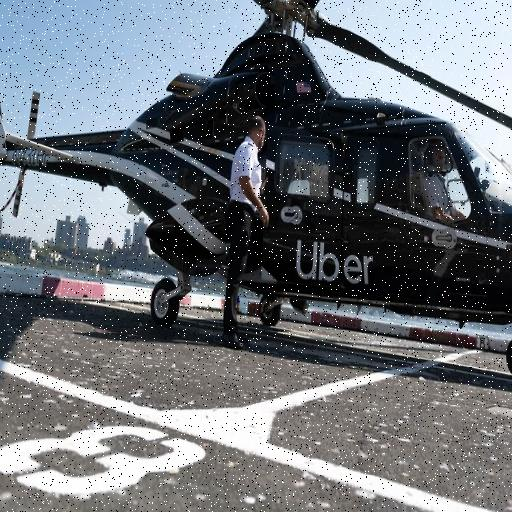helicopter: (1, 1, 512, 381)
